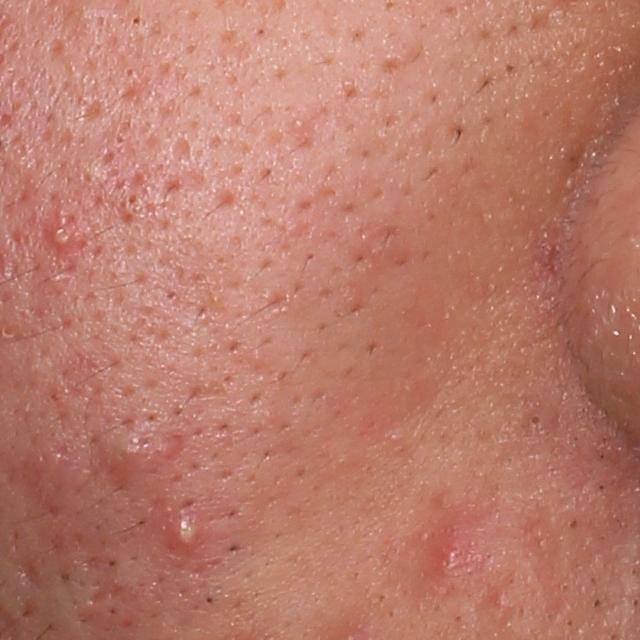atrophic_scar: (75, 93, 112, 128)
comedo: (527, 410, 544, 430), (121, 63, 137, 80), (129, 13, 143, 26)
papule: (20, 444, 95, 503), (92, 422, 157, 482)
pustule: (161, 504, 206, 552), (46, 221, 81, 248)
